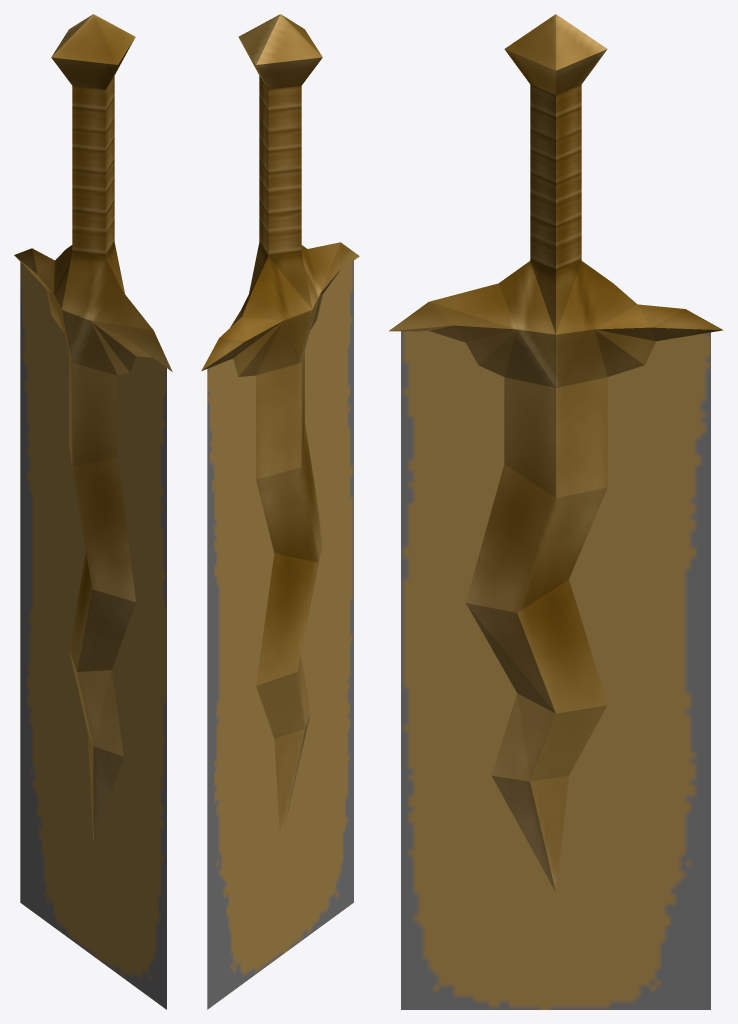
Rendered from twinblade06.obj.
The picture shows the model from 3 angles, left to right: view 1: azimuth 30°, elevation 25°; view 2: azimuth 150°, elevation 25°; view 3: azimuth 270°, elevation 25°; orthographic projection. The views are drawn at different scales.
Visible parts, largest first — view 1: cwdhsw06l; view 2: cwdhsw06l; view 3: cwdhsw06l.
Boxes of the visible parts, x1,y1,x2,y2 form: cwdhsw06l: (14,14,172,1009); cwdhsw06l: (201,14,359,1009); cwdhsw06l: (389,14,723,1009).
Size of the model in its own units: 0.0798 by 0.8499 by 0.2597.
